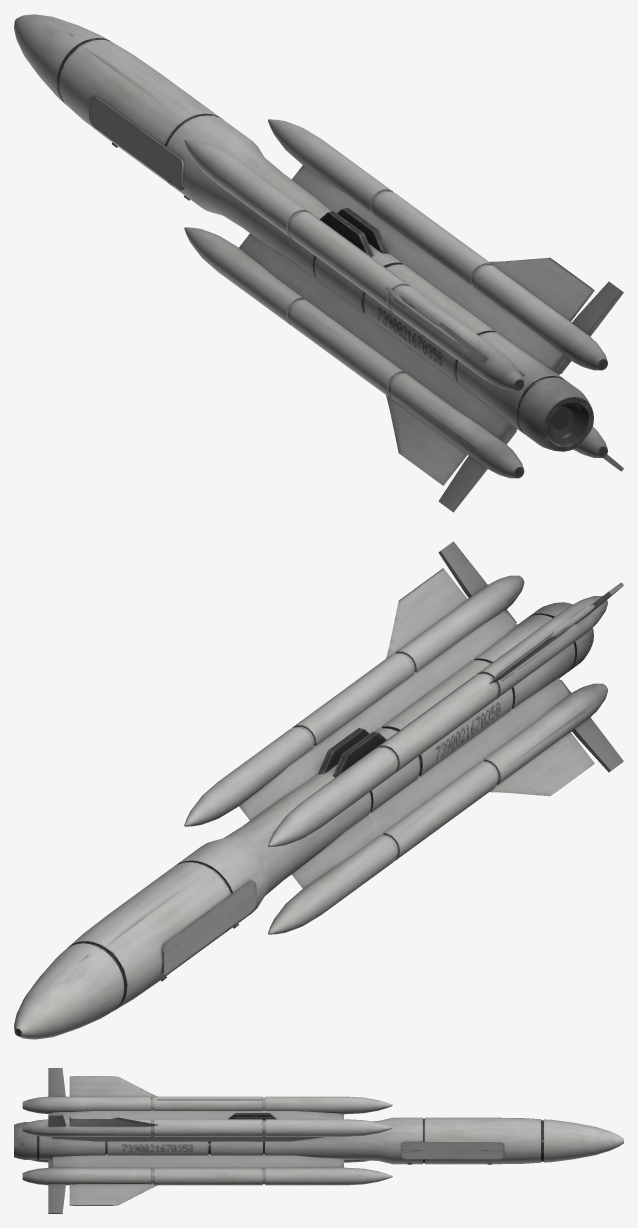
3 views of the same model, one above another, from view 1: azimuth 30°, elevation 25°; view 2: azimuth 150°, elevation 25°; view 3: azimuth 270°, elevation 25° (orthographic). The views are drawn at different scales.
Parts seen in each view (by area): view 1: K31_scoops, K31_body, K31_webs, K31_wings, K31_ctrl, K31_hatches, K31_lugs; view 2: K31_scoops, K31_body, K31_webs, K31_wings, K31_hatches, K31_ctrl, K31_lugs; view 3: K31_scoops, K31_body, K31_webs, K31_wings, K31_hatches, K31_ctrl, K31_lugs.
Boxes of the visible parts, <box> form: K31_scoops: <box>184,119,607,478</box>; K31_body: <box>14,14,593,451</box>; K31_webs: <box>239,165,564,438</box>; K31_wings: <box>386,257,594,485</box>; K31_ctrl: <box>438,281,623,512</box>; K31_hatches: <box>89,96,184,190</box>; K31_lugs: <box>320,207,388,256</box>; K31_scoops: <box>184,575,607,934</box>; K31_body: <box>14,602,593,1039</box>; K31_webs: <box>239,610,569,888</box>; K31_wings: <box>386,568,594,796</box>; K31_hatches: <box>161,881,256,974</box>; K31_ctrl: <box>438,541,623,772</box>; K31_lugs: <box>317,728,386,777</box>; K31_scoops: <box>22,1096,392,1185</box>; K31_body: <box>14,1117,623,1164</box>; K31_webs: <box>52,1110,343,1168</box>; K31_wings: <box>69,1076,158,1205</box>; K31_hatches: <box>401,1142,503,1159</box>; K31_ctrl: <box>48,1068,65,1213</box>; K31_lugs: <box>228,1113,276,1120</box>.
Size of the model in its own units: 0.8588 by 0.8588 by 4.73.
4 materials, 4 textured.
